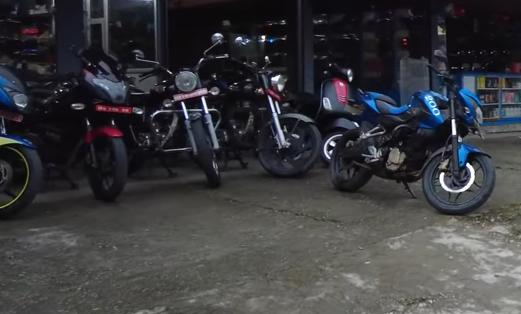bike: (322, 61, 500, 215), (122, 28, 234, 191)
